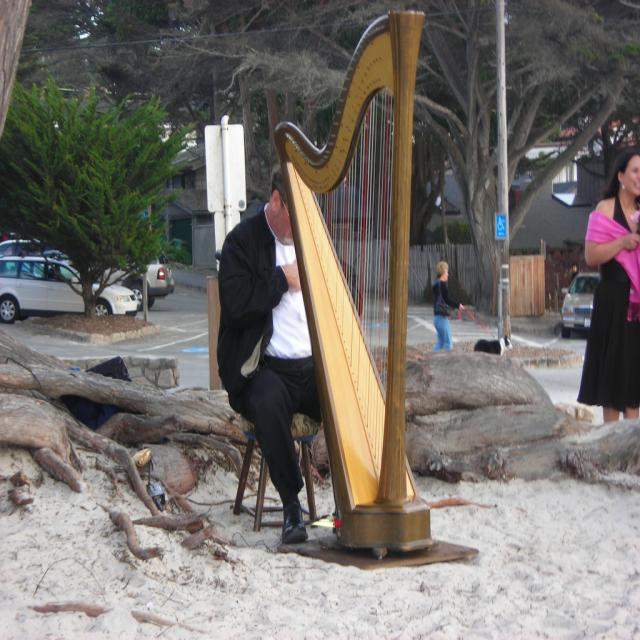harp: (274, 6, 437, 562)
